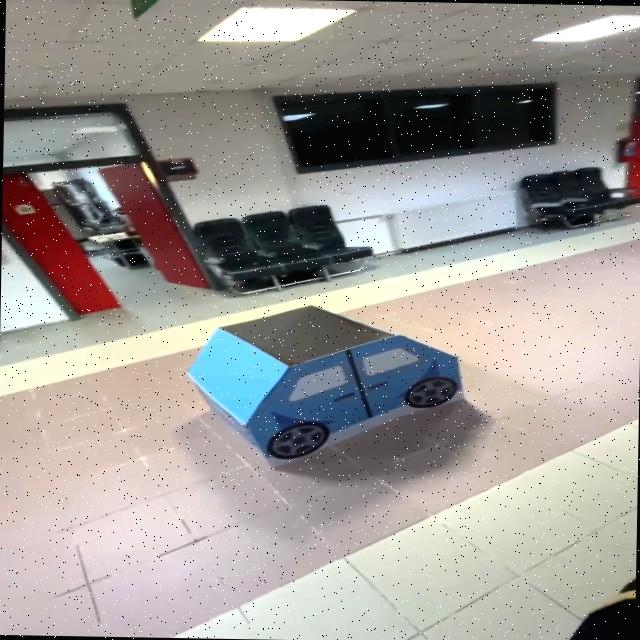blue_car: (144, 288, 516, 484)
